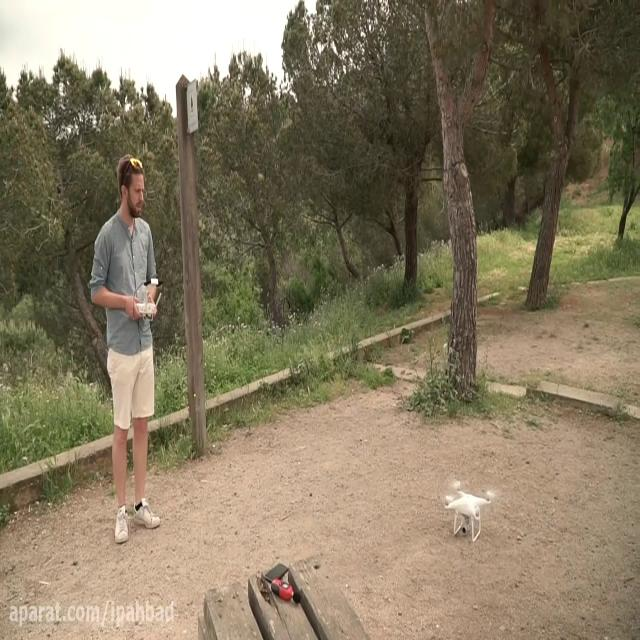drone: (438, 477, 498, 543)
